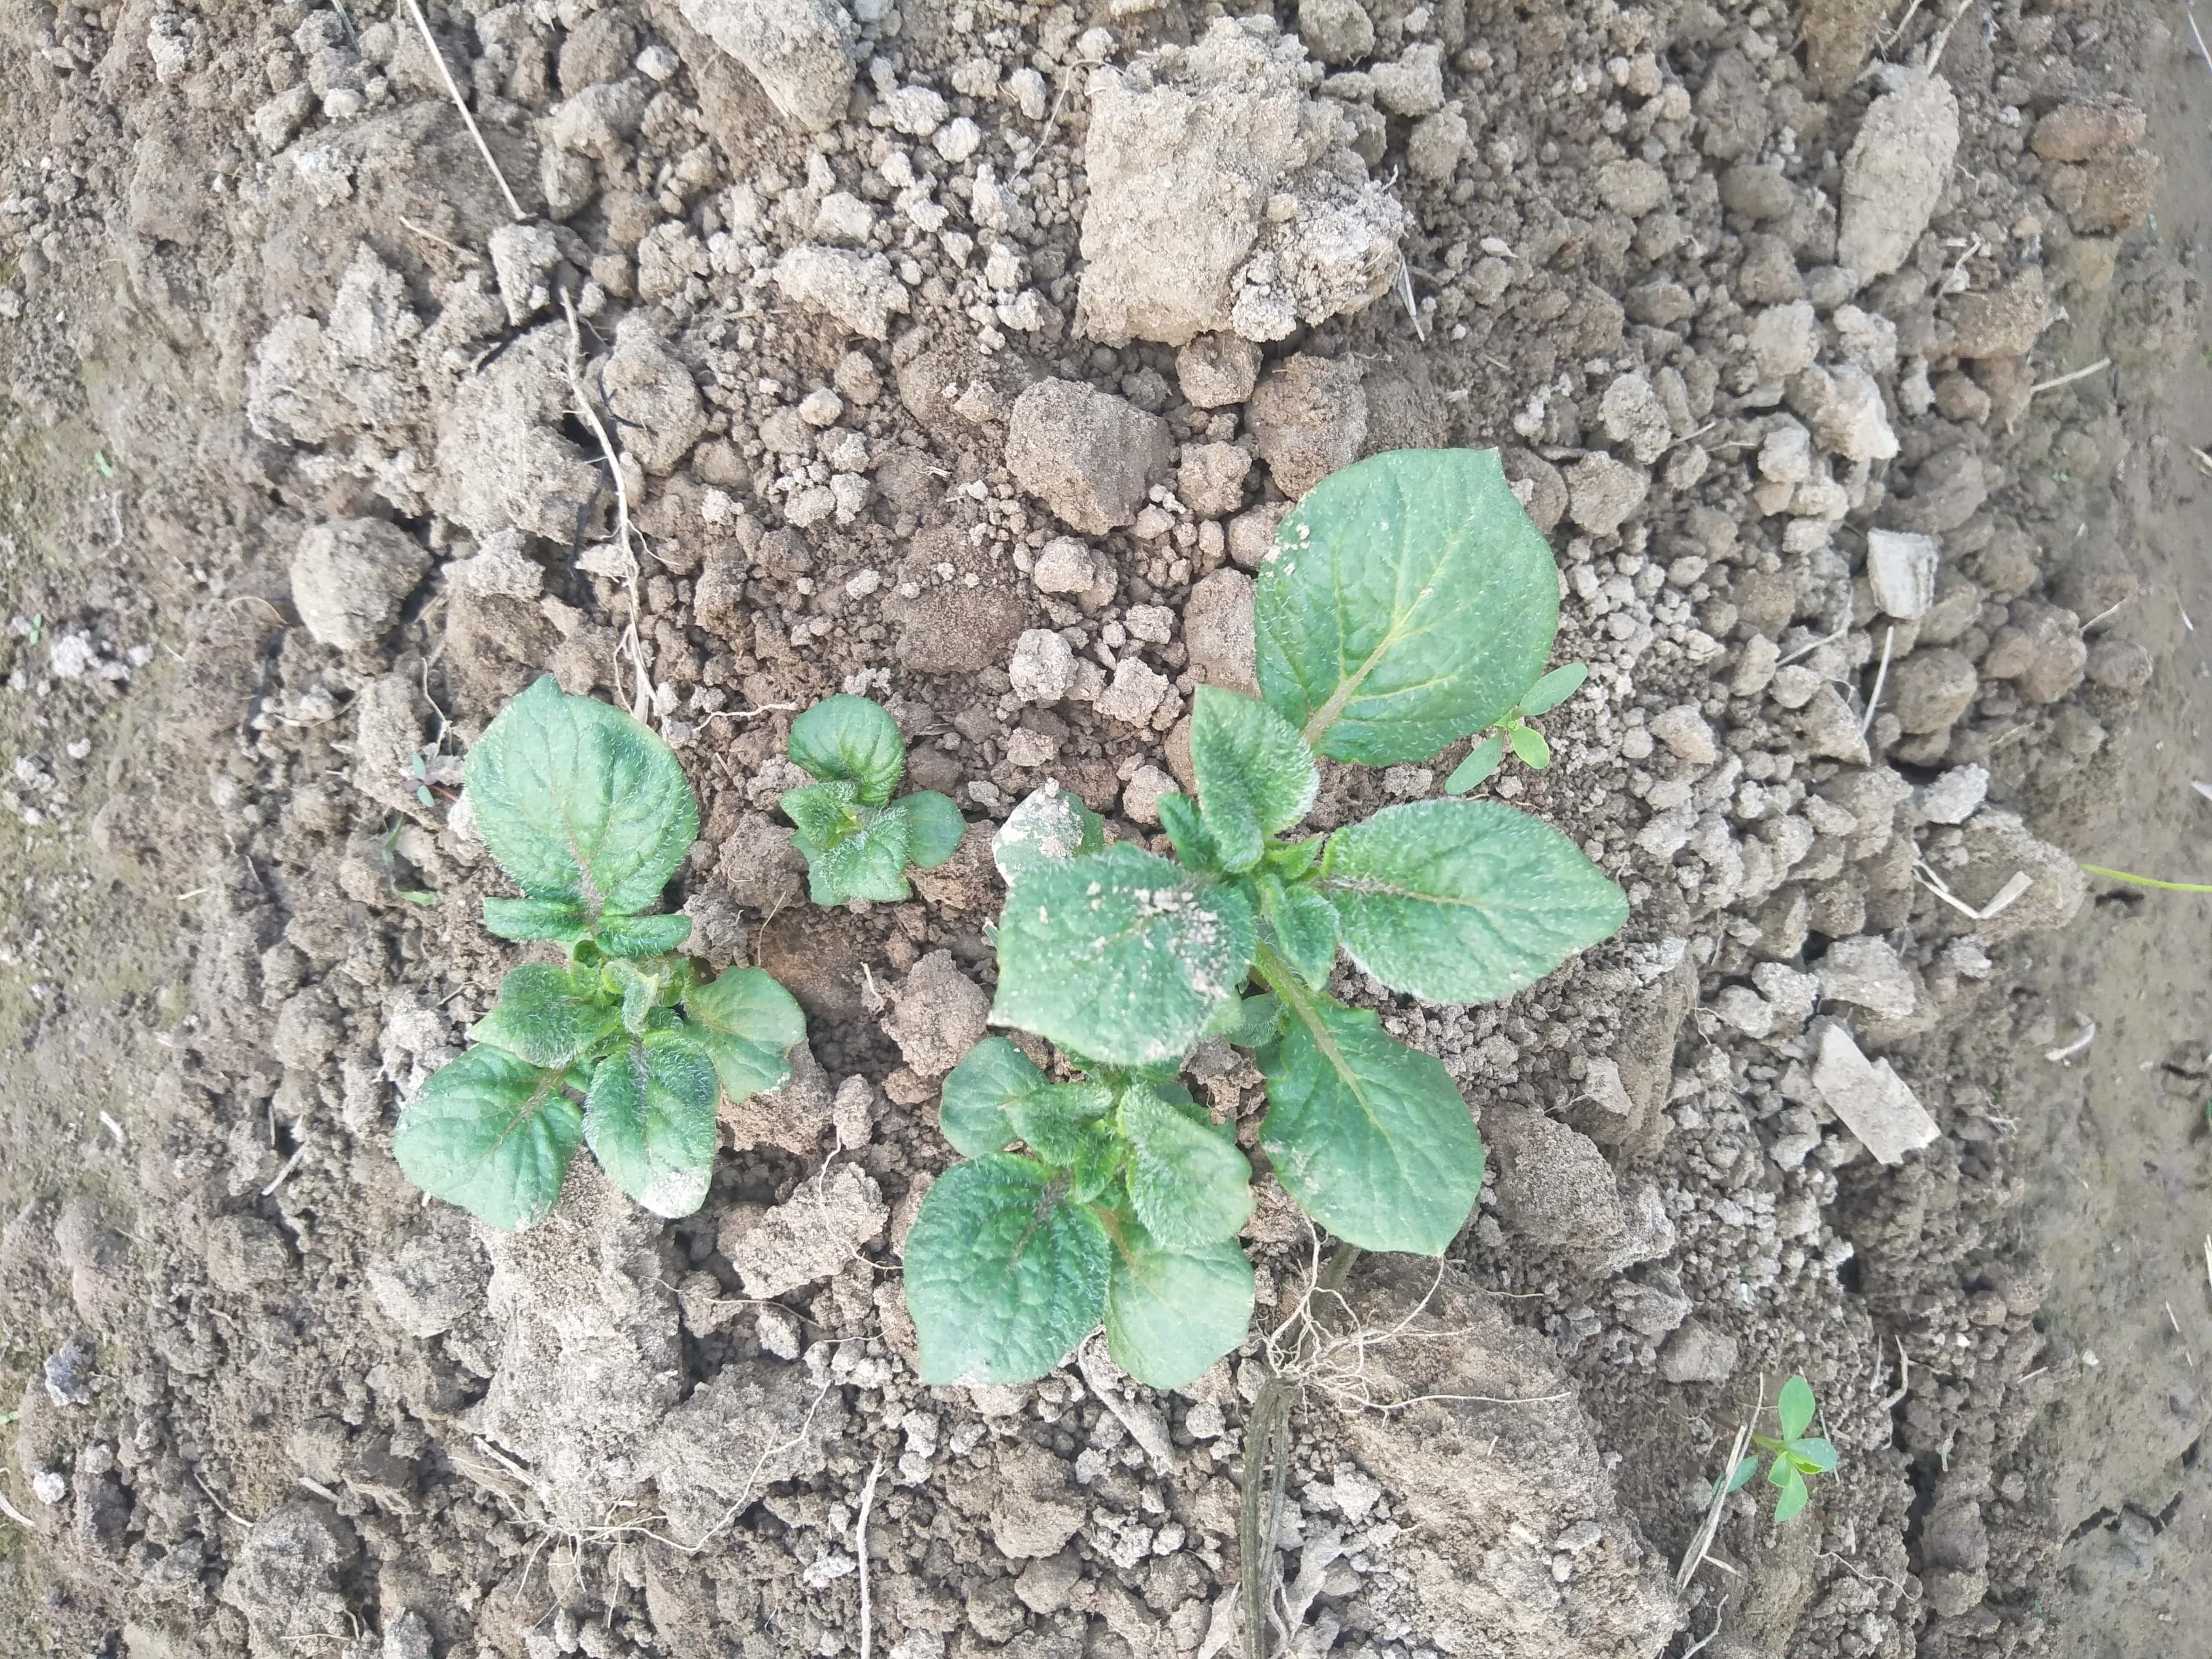daun: (1251, 450, 1555, 748), (455, 678, 697, 922), (1334, 803, 1622, 999), (1261, 1011, 1489, 1253), (984, 852, 1251, 1054), (911, 1150, 1106, 1382), (392, 1047, 571, 1227), (1184, 694, 1318, 870), (594, 1047, 723, 1213), (1103, 1249, 1268, 1375), (1116, 1094, 1249, 1249), (683, 965, 796, 1094), (472, 969, 620, 1065), (792, 690, 900, 800), (1014, 1072, 1176, 1140), (1251, 863, 1334, 992), (805, 819, 907, 899)
